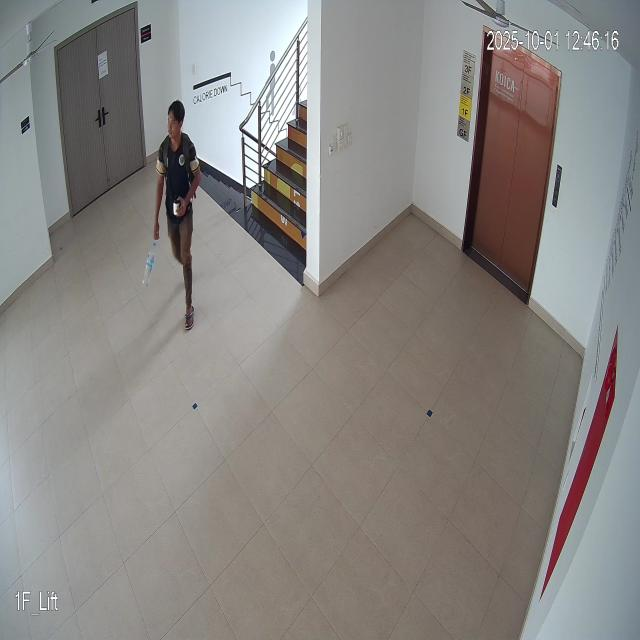face: (163, 100, 188, 141)
